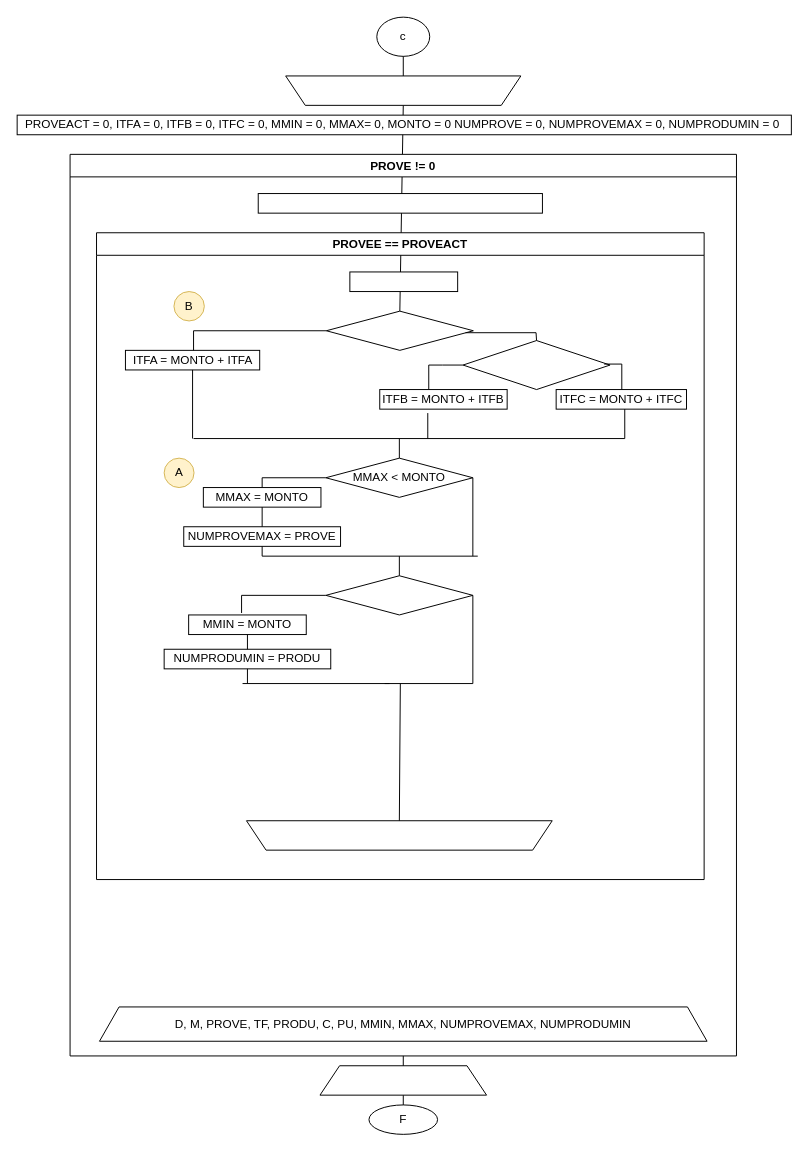
This 809x1152 diagram has some shape labels left out. Here are the shapes that lost their labels. From the top down, the centre of each, then its label:
At point 403,90: "D, M, PROVE, TF, PRODU, C, PU,".
At point 399,203: "PROVEACT = PROVE".
At point 403,281: "MONTO = PU * C".
At point 399,330: "TF == A".
At point 536,365: "TF == B".
At point 399,595: "MMIN > MONTO".
At point 398,835: "D, M, PROVE, TF, PRODU, C, PU".
At point 403,1080: "ITFA. ITFB, ITFC".
